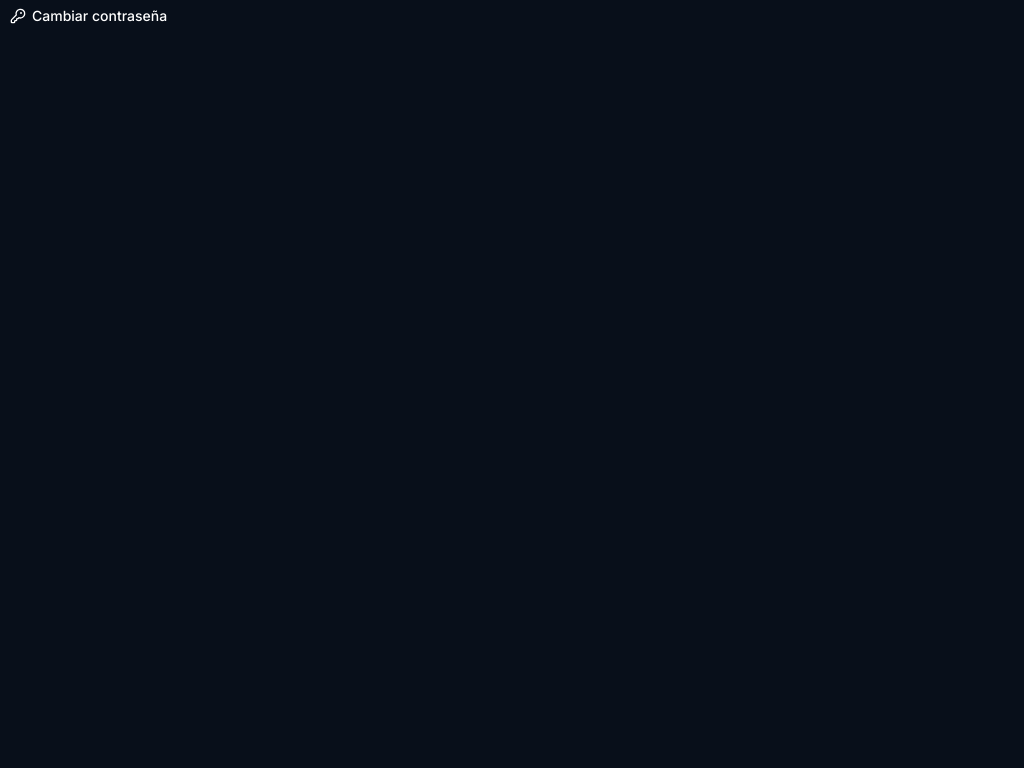
ChangePasswordDialog › sends the exact body, then signs out and goes to login
The width and height of the screenshot is (1024, 768).
Click the button "Cambiar contraseña".
click(89, 16)  # box [0, 0, 177, 32]
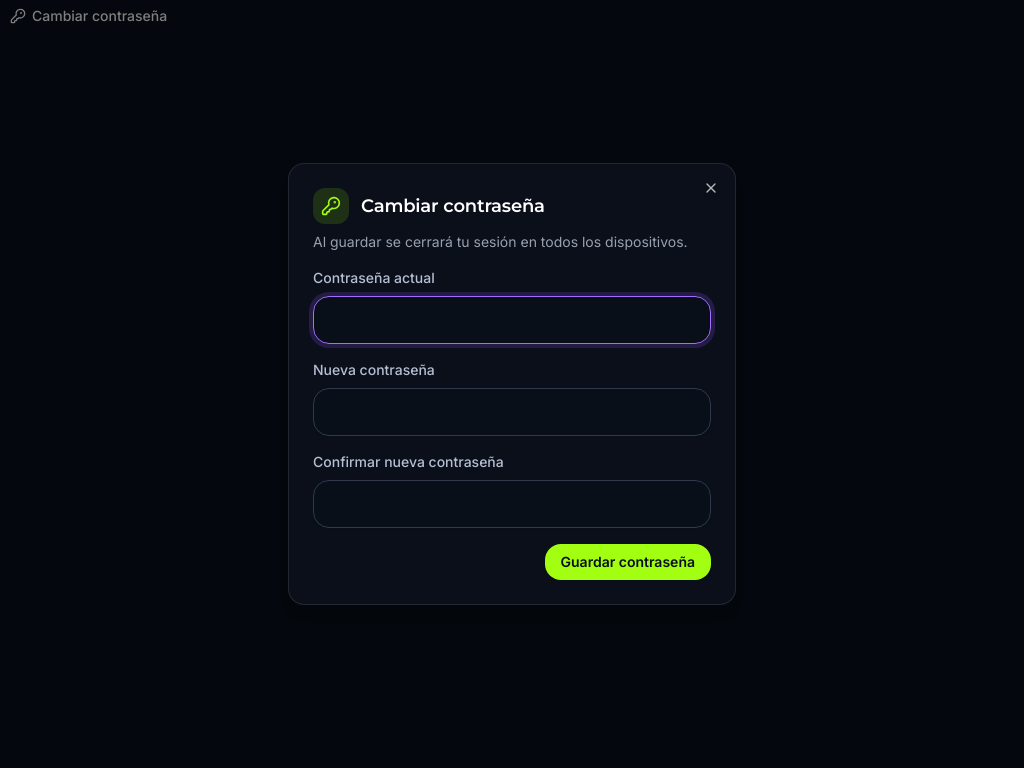
Type "Actual-1234" into the password field labelled "Contraseña actual".
click(512, 320); type("Actual-1234")  # box [313, 296, 711, 344]
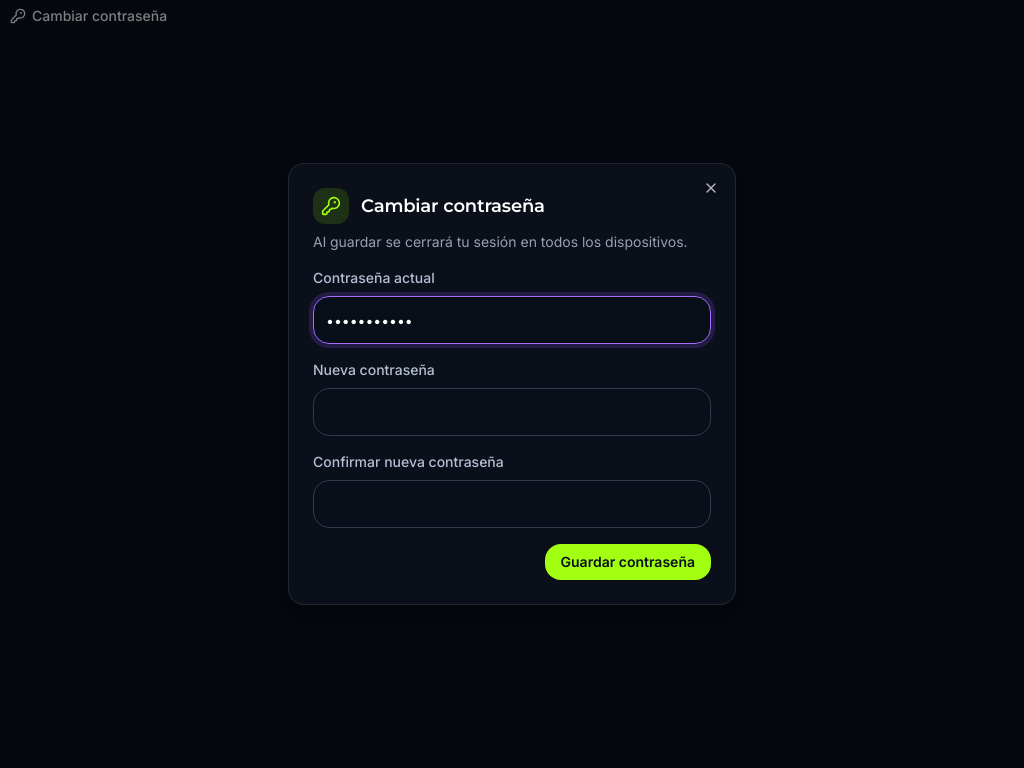
Type "Nueva-clave-segura" into the password field labelled "Nueva contraseña".
click(512, 412); type("Nueva-clave-segura")  # box [313, 388, 711, 436]
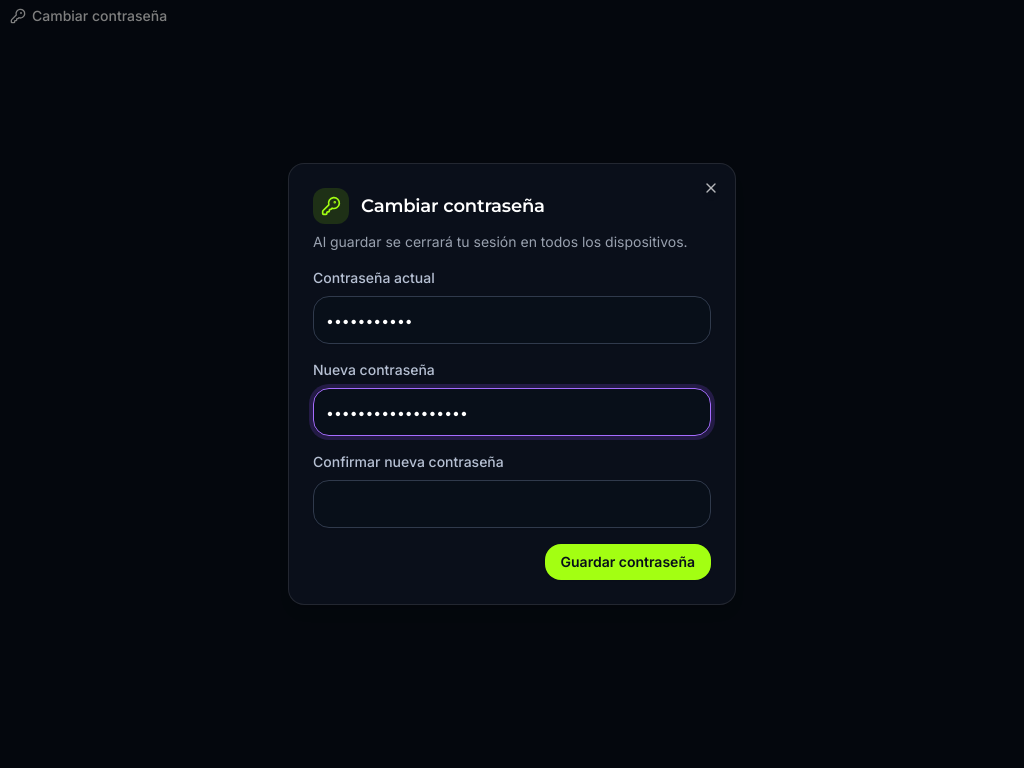
Type "Nueva-clave-segura" into the password field labelled "Confirmar nueva contraseña".
click(512, 504); type("Nueva-clave-segura")  # box [313, 480, 711, 528]
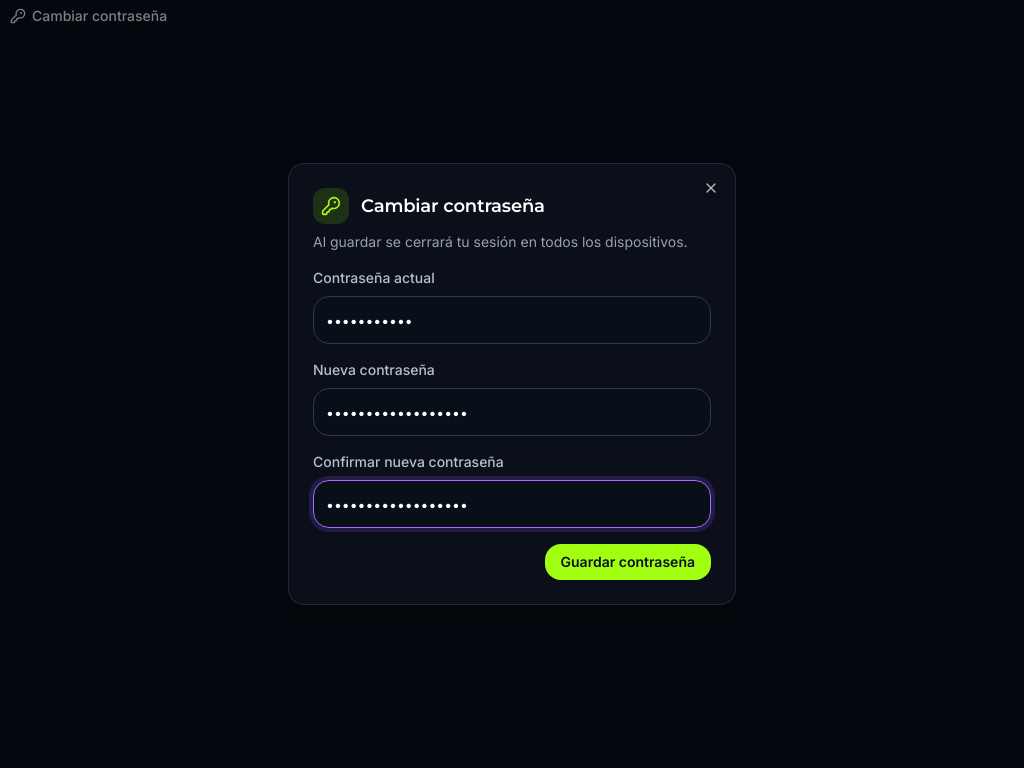
Click the button "Guardar contraseña".
click(628, 562)  # box [544, 544, 711, 580]
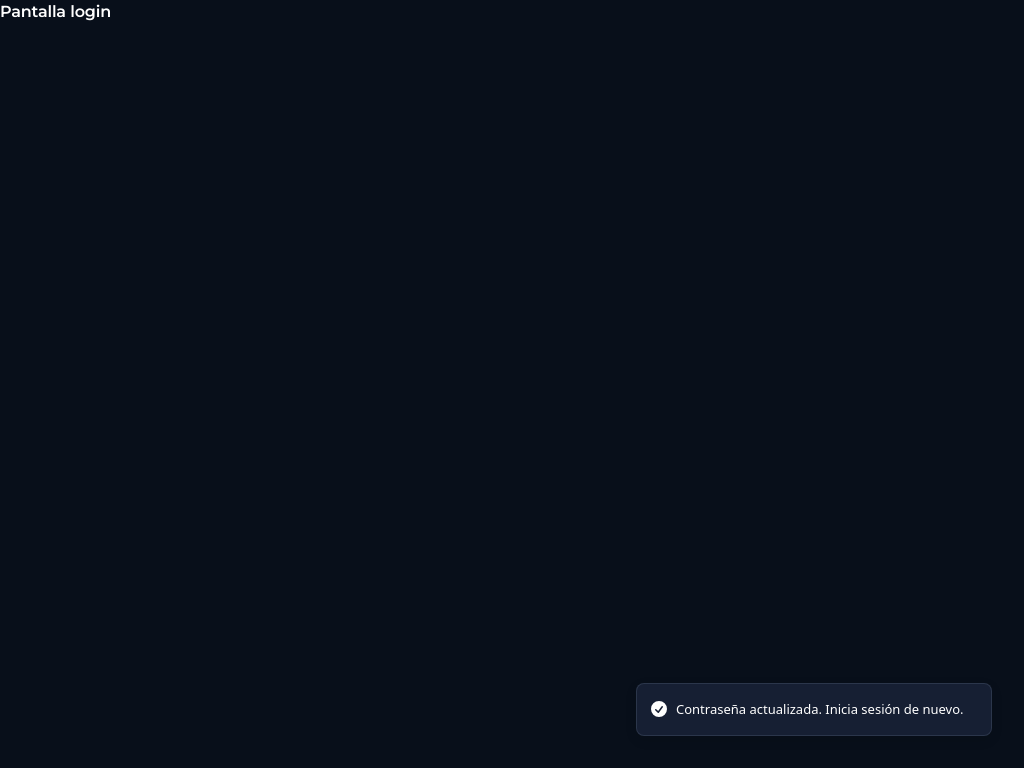
Check: the heading "Pantalla login" is shown, box [0, 2, 111, 21]
Check: the text "Contraseña actualizada. Inicia sesión de nuevo." is shown, box [676, 700, 964, 719]
